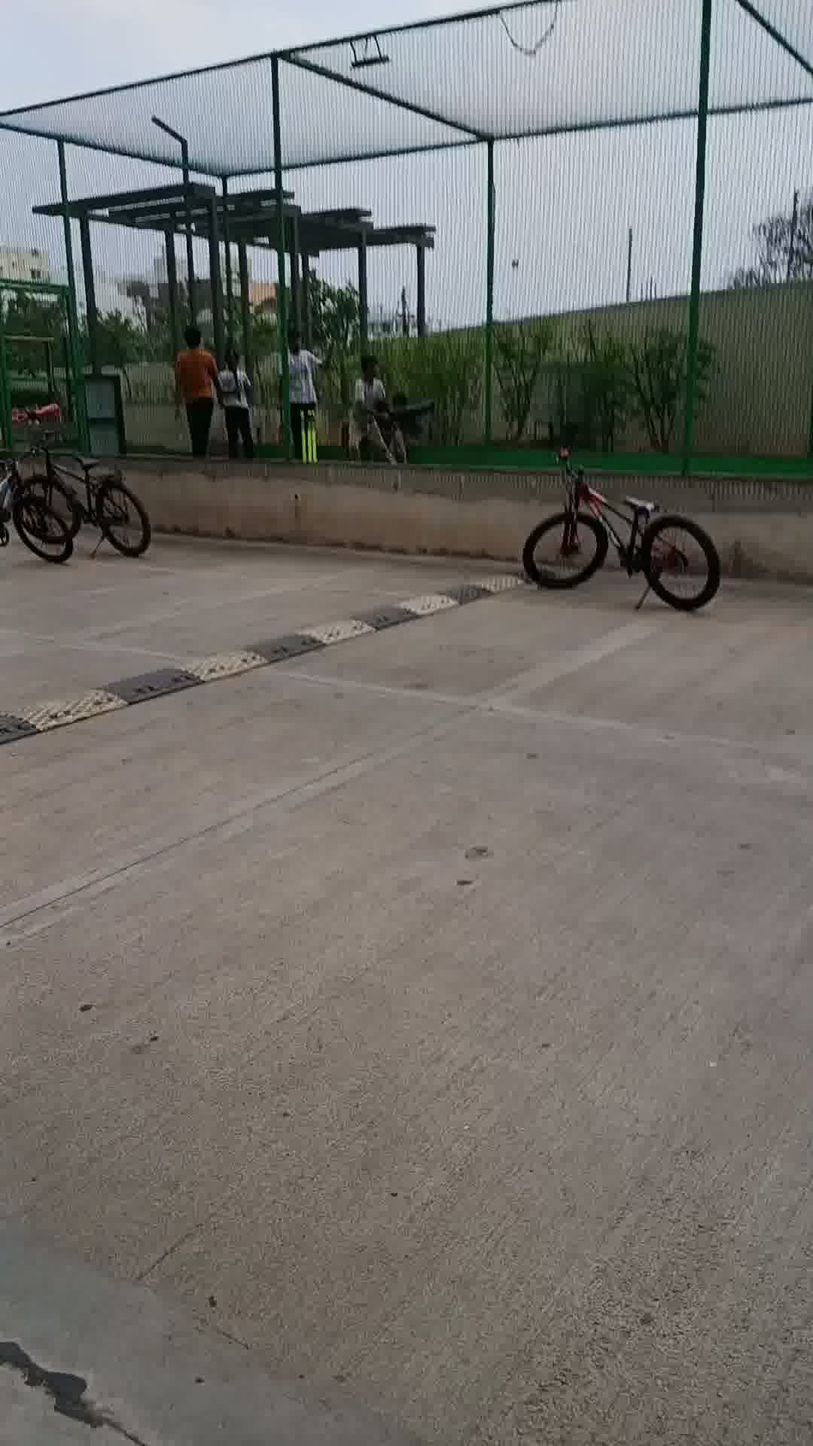bicycle: (529, 453, 740, 632), (24, 433, 164, 564), (0, 454, 77, 565)
person: (161, 316, 226, 465), (355, 340, 410, 481), (280, 314, 330, 458), (215, 336, 267, 463)
